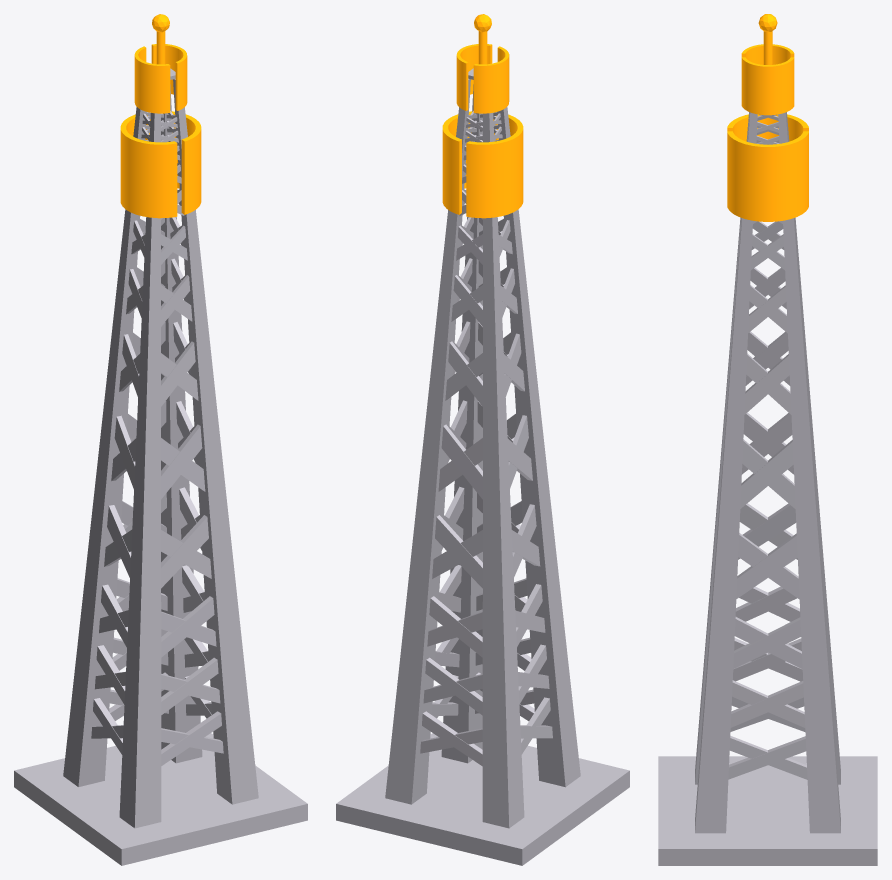
Rendered from tower.glb.
3 views of the same model, side by side, from view 1: azimuth 30°, elevation 25°; view 2: azimuth 150°, elevation 25°; view 3: azimuth 270°, elevation 25° (orthographic). The views are drawn at different scales.
Parts seen in each view (by area): view 1: tower; view 2: tower; view 3: tower.
Part boxes in pixels (x1,y1,x2,y2): tower: (14, 14, 307, 865); tower: (336, 14, 629, 865); tower: (658, 14, 877, 865).
Bounding box in the file's own units: 15.5 × 62.75 × 15.5.
